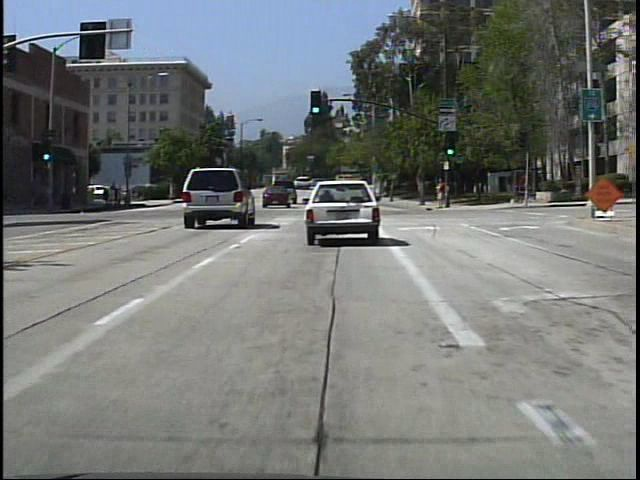person: (430, 174, 447, 210), (108, 180, 120, 210), (122, 182, 123, 209)
